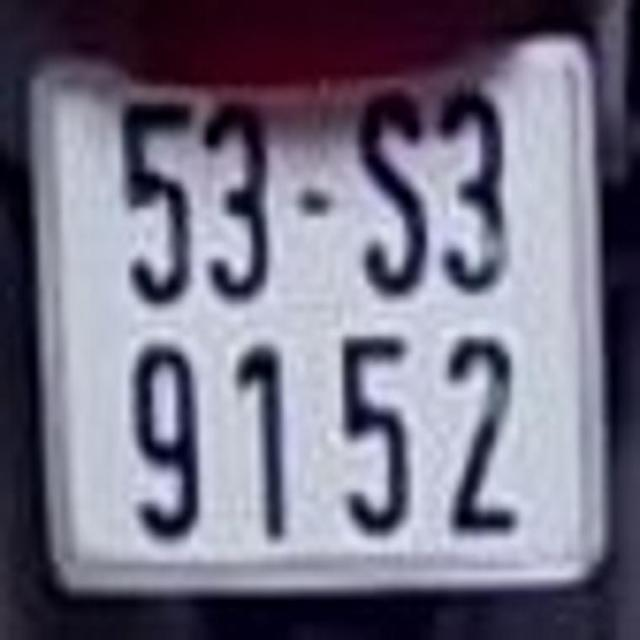1: (228, 334, 307, 548)
2: (436, 318, 526, 540)
3: (436, 85, 514, 296), (203, 96, 280, 302)
5: (333, 320, 416, 542), (113, 95, 197, 304)
9: (116, 331, 212, 543)
S: (354, 98, 432, 303)
